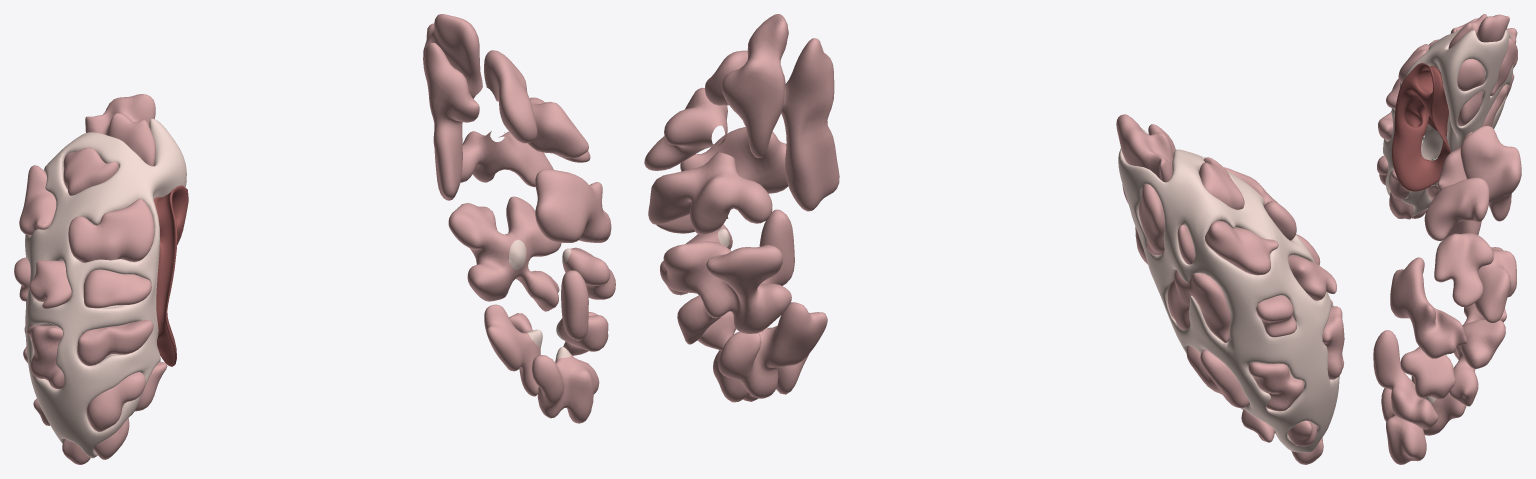
The model's file is female-a-organ-9.glb.
The picture shows the model from 3 angles, left to right: view 1: azimuth 30°, elevation 25°; view 2: azimuth 150°, elevation 25°; view 3: azimuth 270°, elevation 25°; orthographic projection. The views are drawn at different scales.
Parts seen in each view (by area): view 1: VH_F_renal_column_R, VH_F_renal_pyramid_L_a, VH_F_renal_pyramid_L_g, VH_F_renal_pyramid_R_e, VH_F_renal_pyramid_L_f, VH_F_renal_pyramid_R_h, VH_F_renal_pyramid_R_c, VH_F_renal_pyramid_R_j, VH_F_renal_pyramid_L_k, VH_F_hilum_of_kidney_R, VH_F_renal_pyramid_L_d, VH_F_renal_pyramid_L_b (+6 smaller); view 2: VH_F_renal_column_R, VH_F_renal_pyramid_L_a, VH_F_renal_pyramid_L_g, VH_F_renal_pyramid_L_d, VH_F_renal_pyramid_L_j, VH_F_renal_pyramid_R_a, VH_F_renal_pyramid_R_c, VH_F_renal_pyramid_L_e, VH_F_renal_pyramid_L_f, VH_F_renal_pyramid_R_g, VH_F_renal_pyramid_R_d, VH_F_renal_pyramid_R_f (+6 smaller); view 3: VH_F_renal_column_R, VH_F_hilum_of_kidney_R, VH_F_renal_pyramid_L_a, VH_F_renal_pyramid_L_f, VH_F_renal_pyramid_L_e, VH_F_renal_pyramid_L_g, VH_F_renal_pyramid_L_i, VH_F_renal_pyramid_L_b, VH_F_renal_pyramid_L_d, VH_F_renal_pyramid_L_h, VH_F_renal_pyramid_L_k, VH_F_renal_pyramid_R_a (+7 smaller).
Boxes of the visible parts, bbox=[...] form: VH_F_renal_column_R: bbox=[25, 118, 186, 458]; VH_F_renal_pyramid_L_a: bbox=[423, 14, 482, 200]; VH_F_renal_pyramid_L_g: bbox=[448, 196, 561, 311]; VH_F_renal_pyramid_R_e: bbox=[68, 198, 154, 308]; VH_F_renal_pyramid_L_f: bbox=[535, 169, 611, 242]; VH_F_renal_pyramid_R_h: bbox=[27, 320, 153, 389]; VH_F_renal_pyramid_R_c: bbox=[19, 147, 118, 235]; VH_F_renal_pyramid_R_j: bbox=[62, 361, 167, 464]; VH_F_renal_pyramid_L_k: bbox=[532, 355, 599, 423]; VH_F_hilum_of_kidney_R: bbox=[153, 185, 188, 366]; VH_F_renal_pyramid_L_d: bbox=[460, 131, 553, 187]; VH_F_renal_pyramid_L_b: bbox=[484, 50, 537, 143]; VH_F_renal_column_R: bbox=[1118, 128, 1339, 452]; VH_F_renal_pyramid_L_a: bbox=[721, 14, 839, 211]; VH_F_renal_pyramid_L_g: bbox=[660, 241, 791, 344]; VH_F_renal_pyramid_L_d: bbox=[648, 151, 772, 234]; VH_F_renal_pyramid_L_j: bbox=[718, 302, 827, 398]; VH_F_renal_pyramid_R_a: bbox=[1116, 114, 1175, 255]; VH_F_renal_pyramid_R_c: bbox=[1199, 157, 1278, 275]; VH_F_renal_pyramid_L_e: bbox=[644, 87, 727, 170]; VH_F_renal_pyramid_L_f: bbox=[656, 127, 788, 233]; VH_F_renal_pyramid_R_g: bbox=[1186, 345, 1303, 411]; VH_F_renal_pyramid_R_d: bbox=[1167, 224, 1230, 342]; VH_F_renal_pyramid_R_f: bbox=[1256, 255, 1336, 337]; VH_F_renal_column_R: bbox=[1383, 29, 1513, 216]; VH_F_hilum_of_kidney_R: bbox=[1392, 63, 1450, 191]; VH_F_renal_pyramid_L_a: bbox=[1437, 125, 1521, 238]; VH_F_renal_pyramid_L_f: bbox=[1390, 257, 1466, 358]; VH_F_renal_pyramid_L_e: bbox=[1434, 233, 1493, 307]; VH_F_renal_pyramid_L_g: bbox=[1449, 303, 1506, 406]; VH_F_renal_pyramid_L_i: bbox=[1373, 330, 1438, 429]; VH_F_renal_pyramid_L_b: bbox=[1424, 177, 1489, 241]; VH_F_renal_pyramid_L_d: bbox=[1474, 247, 1516, 322]; VH_F_renal_pyramid_L_h: bbox=[1400, 347, 1455, 399]; VH_F_renal_pyramid_L_k: bbox=[1381, 388, 1426, 464]; VH_F_renal_pyramid_R_a: bbox=[1448, 14, 1517, 95].
Bounding box in the file's own units: 0.1758 × 0.1121 × 0.0491.
